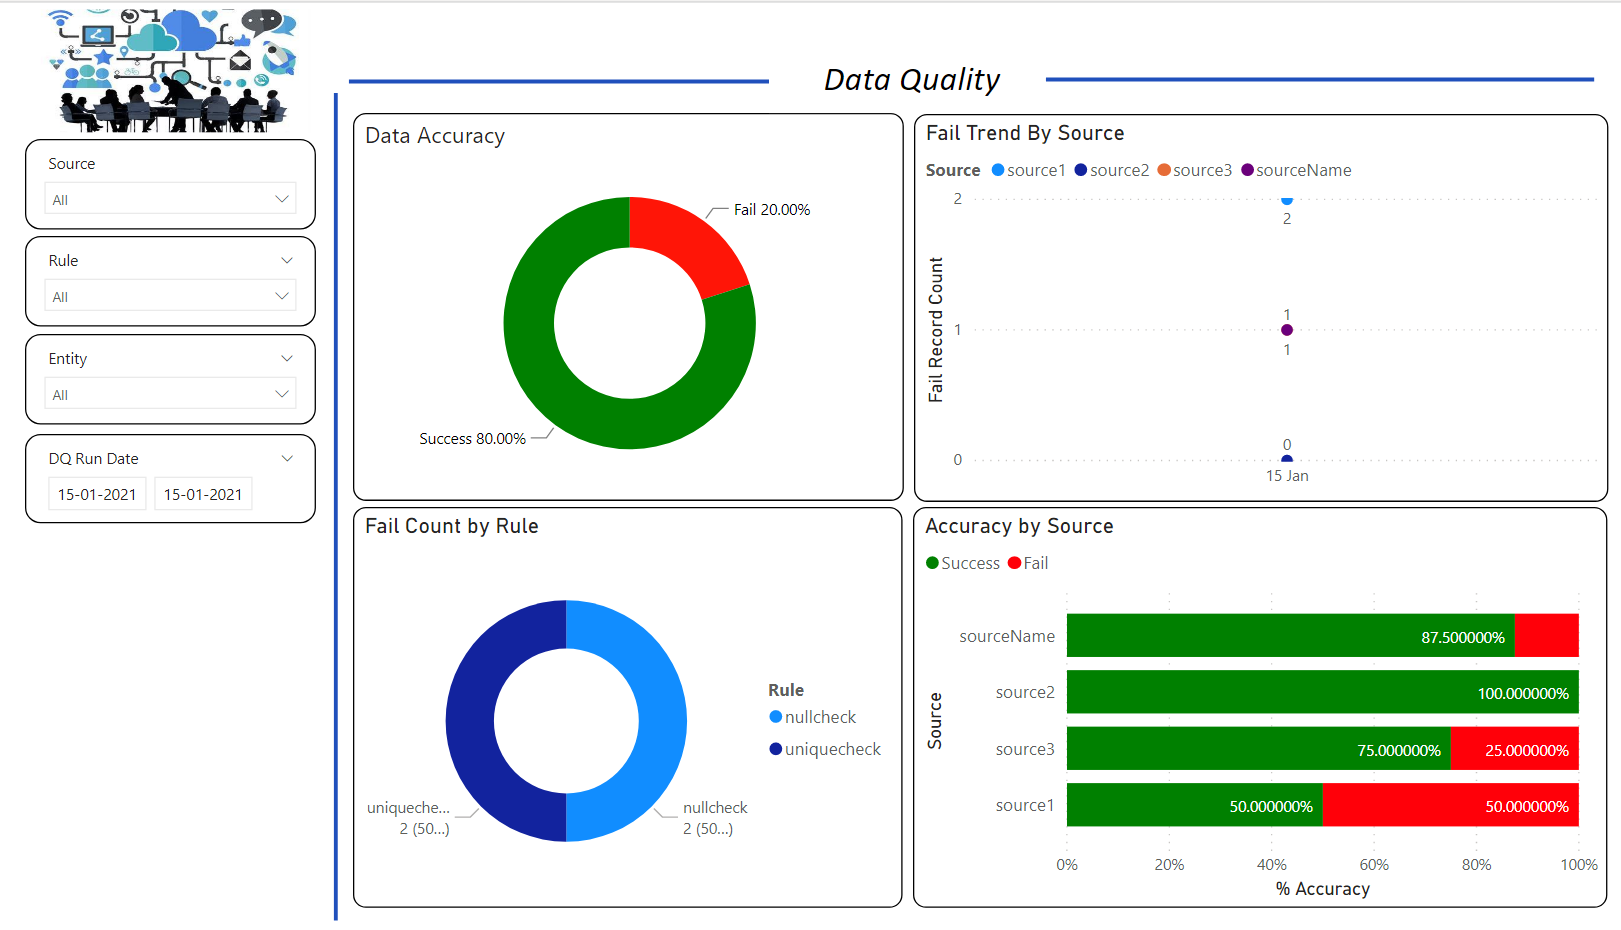

The dashboard page shown, as its layout file describes it:
{"tool":"powerbi","page":{"name":"DQ Insights","canvas":[1280,720],"ordinal":0},"visuals":[{"type":"donutChart","fields":{"Category":["dqaggtable.Rule"],"Y":["Sum(dqaggtable.FailCount)"]},"box":[294,390,425,310],"z":0},{"type":"slicer","fields":{"Values":["dqaggtable.Source"]},"box":[40,105,225,70],"z":1000},{"type":"slicer","fields":{"Values":["dqaggtable.Rule"]},"box":[40,180,225,70],"z":2000},{"type":"lineChart","title":"Fail Trend By Source","fields":{"Series":["dqaggtable.Source"],"Y":["Sum(dqaggtable.FailCount)"],"Category":["dqaggtable.DQModifiedDate.Variation.Date Hierarchy.Year","dqaggtable.DQModifiedDate.Variation.Date Hierarchy.Month","dqaggtable.DQModifiedDate.Variation.Date Hierarchy.Day"]},"box":[728,86,537,300],"z":3000},{"type":"donutChart","title":"Data Accuracy","fields":{"Y":["Sum(dqaggtable.FailCount)","Sum(dqaggtable.SuccessCount)"]},"box":[294,85,426,300],"z":4000},{"type":"hundredPercentStackedBarChart","title":"Accuracy by Source","fields":{"Category":["dqaggtable.Source"],"Y":["Sum(dqaggtable.SuccessCount)","Sum(dqaggtable.FailCount)"]},"box":[727,390,537,310],"z":5000},{"type":"slicer","fields":{"Values":["dqaggtable.Entity"]},"box":[40,256,225,70],"z":6000},{"type":"image","box":[40,0,226,105.1],"z":7000},{"type":"basicShape","box":[267.5,59.3,26.3,660.4],"z":8000},{"type":"basicShape","box":[281.1,39.9,358.9,40.9],"z":9000},{"type":"textbox","box":[615.7,37,220.8,47.7],"z":10000},{"type":"basicShape","box":[819.9,38.9,443.5,40.9],"z":11000},{"type":"slicer","fields":{"Values":["dqaggtable.DQModifiedDate"]},"box":[40,333,225.1,68.6],"z":12000}]}

Visuals, with their boxes in screenshot pixels (x1, y1, x2, y2), scaled from the page's 1280x720 canvas onto the 1621x930 screenshot:
donutChart - dqaggtable.Rule x Sum(dqaggtable.FailCount): locate(372, 504, 911, 904)
slicer - dqaggtable.Source: locate(51, 136, 336, 226)
slicer - dqaggtable.Rule: locate(51, 232, 336, 323)
"Fail Trend By Source" lineChart: locate(922, 111, 1602, 499)
"Data Accuracy" donutChart: locate(372, 110, 912, 497)
"Accuracy by Source" hundredPercentStackedBarChart: locate(921, 504, 1601, 904)
slicer - dqaggtable.Entity: locate(51, 331, 336, 421)
image: locate(51, 0, 337, 136)
basicShape: locate(339, 77, 372, 929)
basicShape: locate(356, 52, 810, 104)
textbox: locate(780, 48, 1059, 109)
basicShape: locate(1038, 50, 1600, 103)
slicer - dqaggtable.DQModifiedDate: locate(51, 430, 336, 519)
